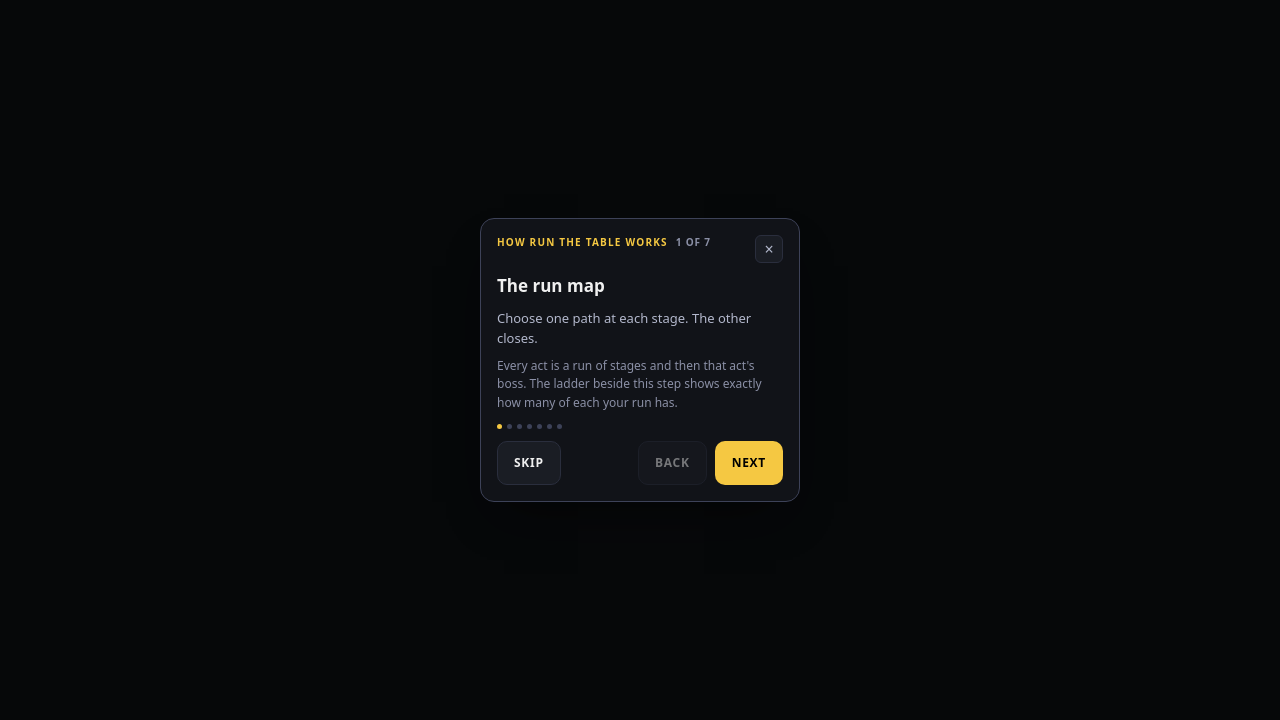
targets › degrades gracefully when every target is missing
expect the dialog with test id "guided-tour-popover" is shown: met, box [480, 218, 800, 502]
expect the text with test id "guided-tour-progress" reads "1 of 7": met, box [676, 235, 711, 250]
Click the button with test id "guided-tour-next".
click(749, 463)  # box [715, 441, 783, 485]
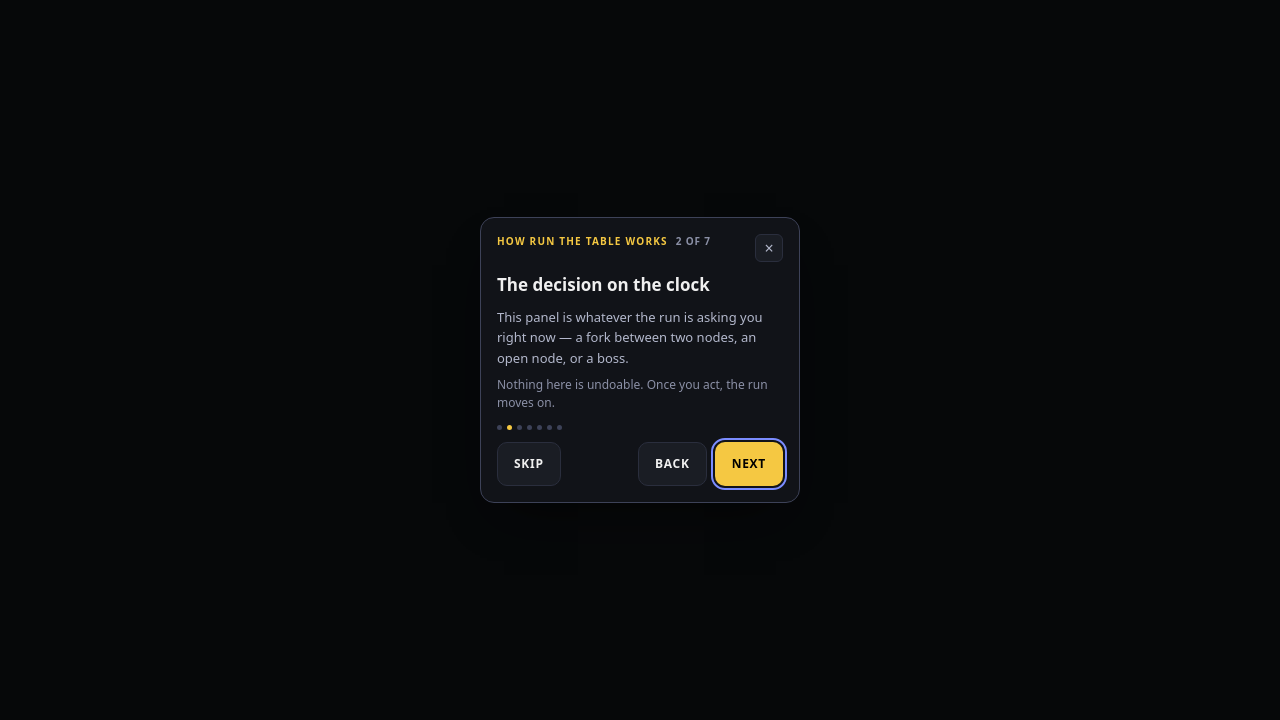
expect the text with test id "guided-tour-progress" reads "2 of 7": met, box [676, 234, 711, 249]
